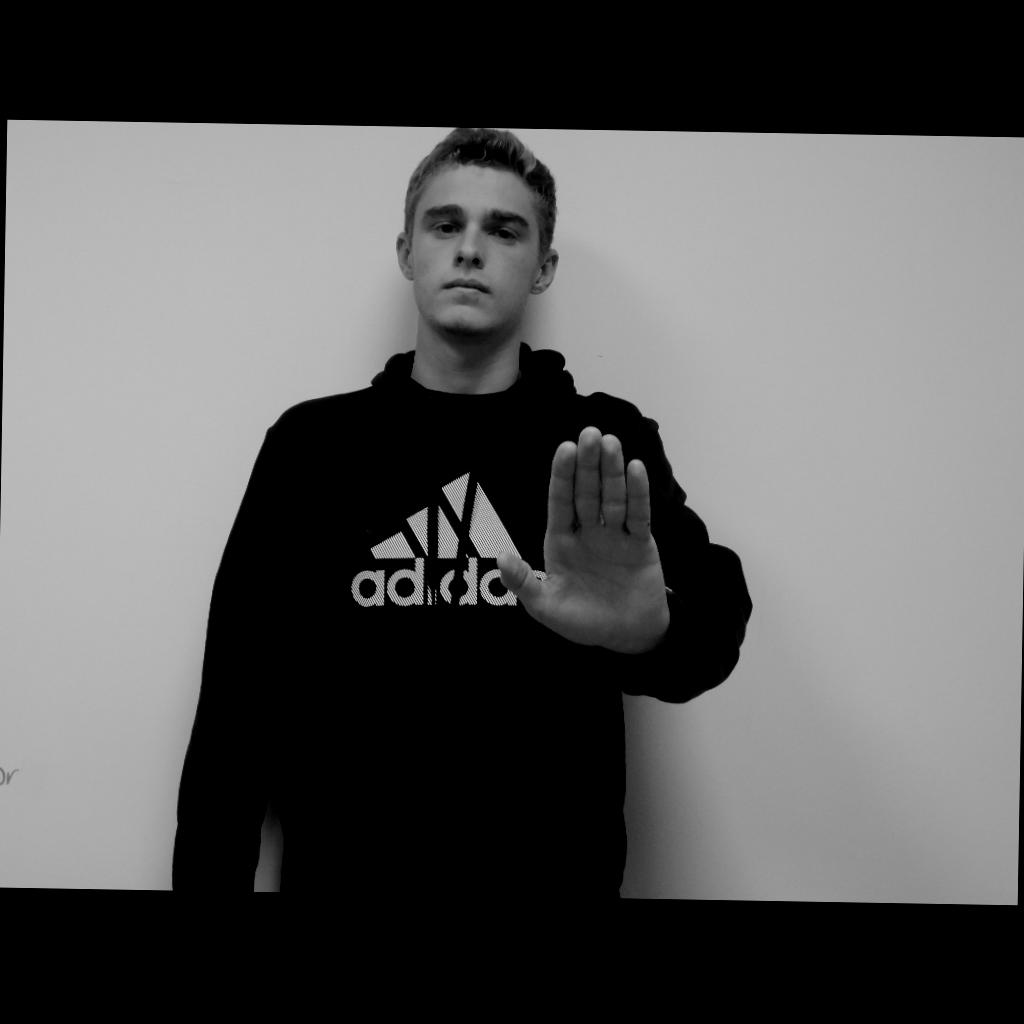your: (494, 424, 668, 648)
